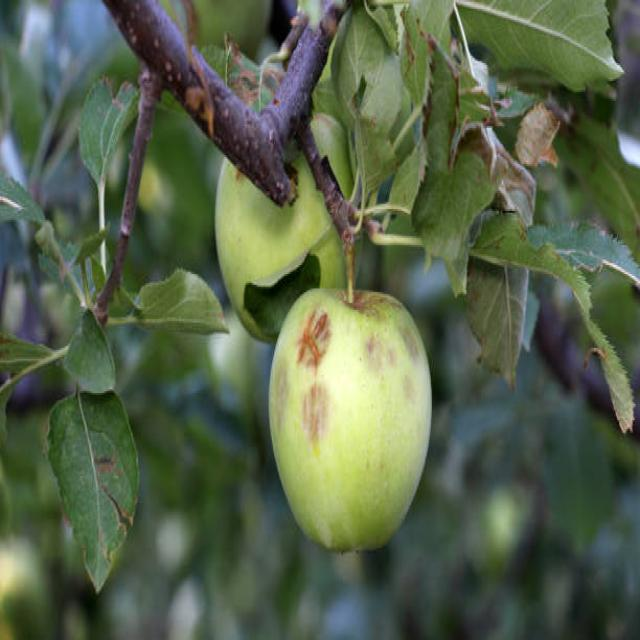Rotten: (268, 284, 432, 556)
